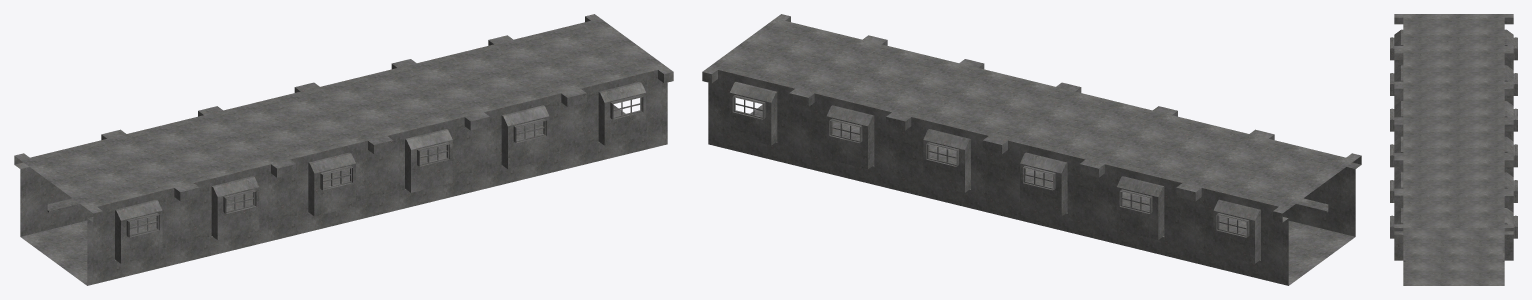
The model's file is interior environment blockout4.glb.
The picture shows the model from 3 angles, left to right: view 1: azimuth 30°, elevation 25°; view 2: azimuth 150°, elevation 25°; view 3: azimuth 270°, elevation 25°; orthographic projection. The views are drawn at different scales.
Visible parts, largest first — view 1: Plane_002; view 2: Plane_002; view 3: Plane_002.
Part boxes in pixels (x1,y1,x2,y2): Plane_002: (14, 14, 673, 285); Plane_002: (702, 14, 1361, 285); Plane_002: (1390, 14, 1517, 285).
Bounding box in the file's own units: 220 × 27.87 × 55.67.
Materials: 1 (1 with a texture image).
